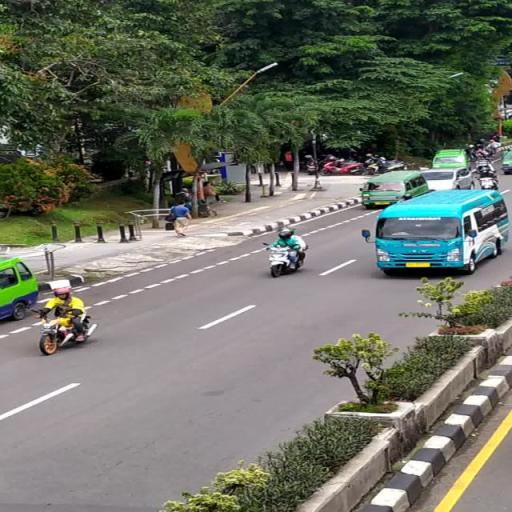Helmet: (54, 288, 71, 299), (279, 228, 293, 239), (367, 153, 372, 157)
Motor: (40, 317, 76, 355), (267, 246, 302, 277), (364, 156, 406, 174), (320, 160, 363, 175), (480, 176, 498, 190), (318, 156, 337, 169)
